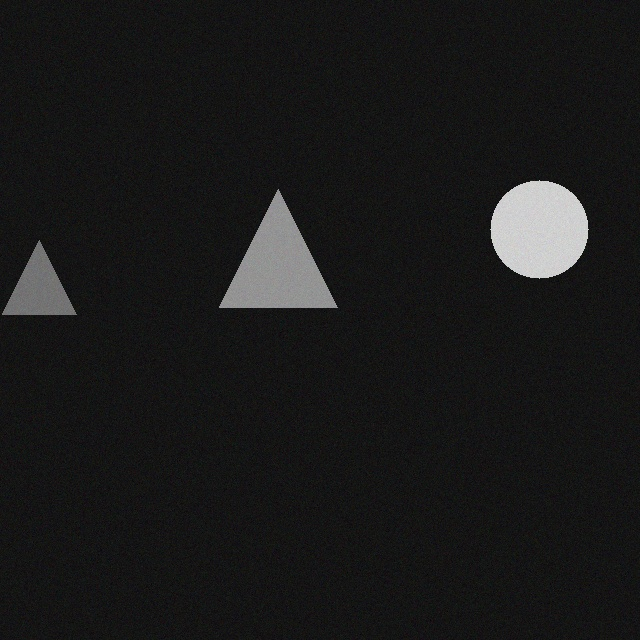circle: (496, 191, 594, 289)
triangle: (225, 200, 343, 318), (8, 251, 82, 325)
